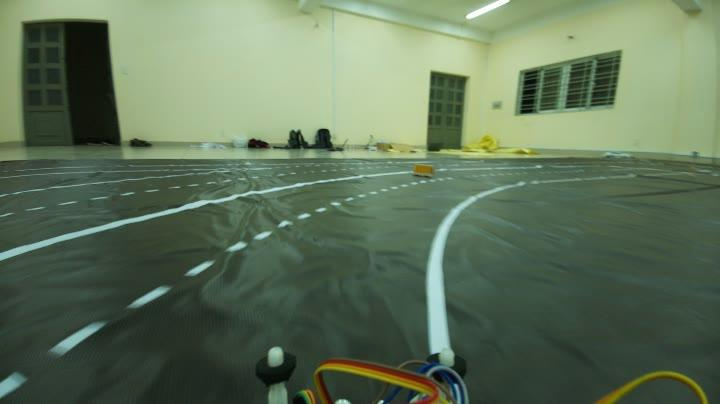roadblock: (414, 158, 442, 178)
